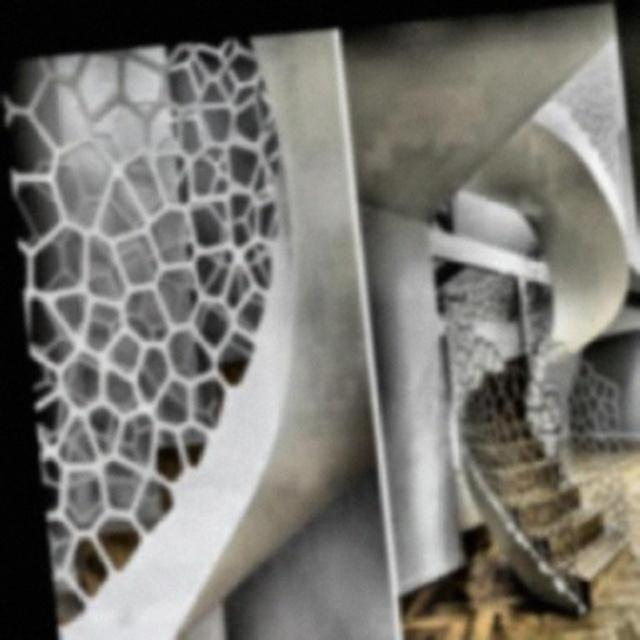stair: (433, 322, 624, 624)
